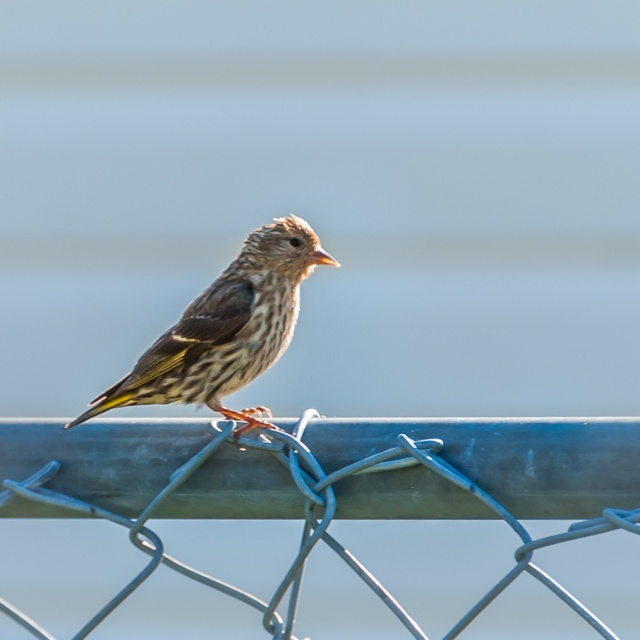Sparrow: (62, 212, 340, 449)
